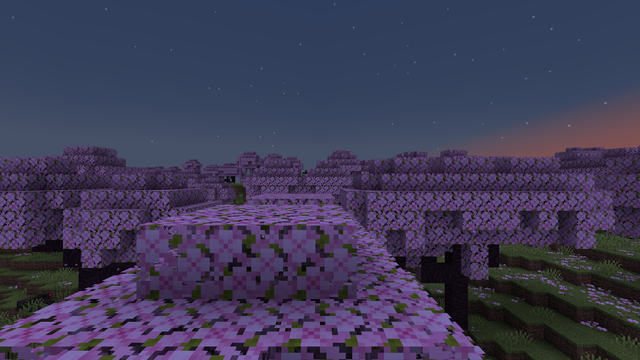araignees: (16, 290, 54, 310)
